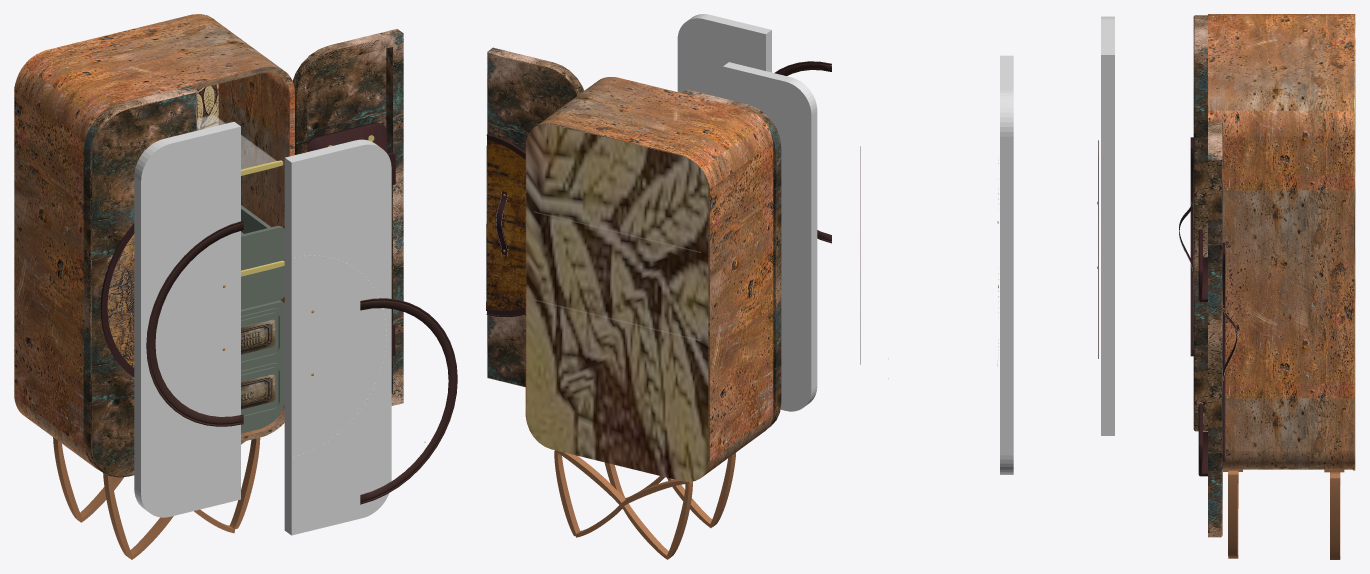
The model's file is shkaf.glb.
3 renders of one model, left to right at view 1: azimuth 30°, elevation 25°; view 2: azimuth 150°, elevation 25°; view 3: azimuth 270°, elevation 25°, orthographic. The views are drawn at different scales.
Parts seen in each view (by area): view 1: shkaf, Куб, дверка_левая, Cube.003, Cube.004, кож_обод_Л, кож_обод_Л.001, Beresta_L, leg_front_o, Куб.007, Куб.012, BézierCurve.004 (+9 smaller); view 2: Beck_W, shkaf, дверка_левая, Cube.004, Beresta_R, Куб, leg_beck_o, Cube.003, leg_front_o, кож_обод_Л.001, BézierCircle, ручка_правая; view 3: shkaf, Cube.004, дверка_левая, Куб, Cube.003, leg_beck_o, leg_front_o, Beck_W, BézierCircle.001, BézierCircle.
Part boxes in pixels (x1,y1,x2,y2): shkaf: (14,14,294,469); Куб: (284,139,391,535); дверка_левая: (134,121,240,517); Cube.003: (83,85,196,477); Cube.004: (292,29,403,405); кож_обод_Л: (146,220,243,426); кож_обод_Л.001: (360,298,457,504); Beresta_L: (107,234,134,367); leg_front_o: (103,437,260,559); Куб.007: (241,226,284,270); Куб.012: (241,265,284,309); BézierCurve.004: (307,122,395,184); Beck_W: (526,123,708,481); shkaf: (525,77,773,478); дверка_левая: (723,62,817,411); Cube.004: (487,47,584,387); Beresta_R: (486,140,525,310); Куб: (677,14,771,97); leg_beck_o: (554,450,692,559); Cube.003: (682,89,781,427); leg_front_o: (604,452,736,527); кож_обод_Л.001: (774,61,831,243); BézierCircle: (486,134,525,316); ручка_правая: (495,191,507,255); shkaf: (1208,14,1354,469); Cube.004: (1208,121,1222,537); дверка_левая: (1101,16,1114,435); Куб: (1000,55,1013,474); Cube.003: (1193,15,1207,431); leg_beck_o: (1324,469,1344,559); leg_front_o: (1223,469,1242,558); Beck_W: (1352,14,1355,470); BézierCircle.001: (1190,137,1193,356); BézierCircle: (1222,242,1225,461).
Bounding box in the file's own units: 1.65 × 2.31 × 2.16.
19 materials, 13 textured.
